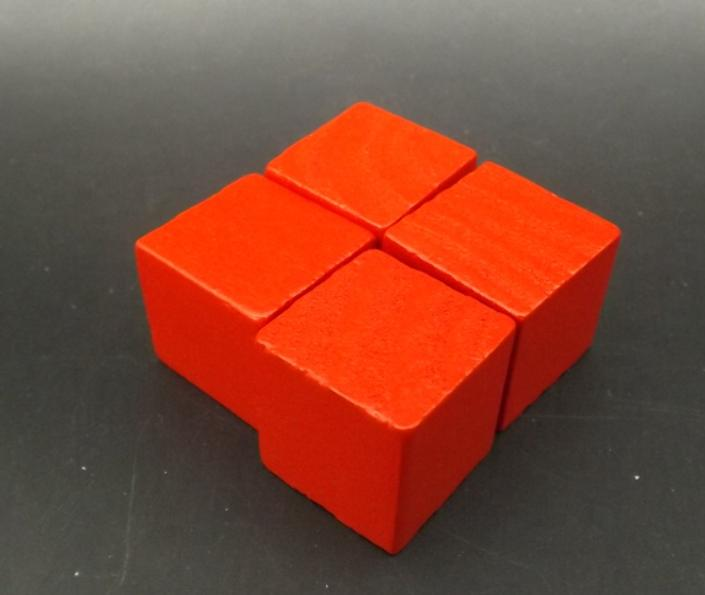red cube: (257, 246, 518, 557), (379, 159, 622, 432), (131, 170, 379, 429), (266, 97, 481, 237)
